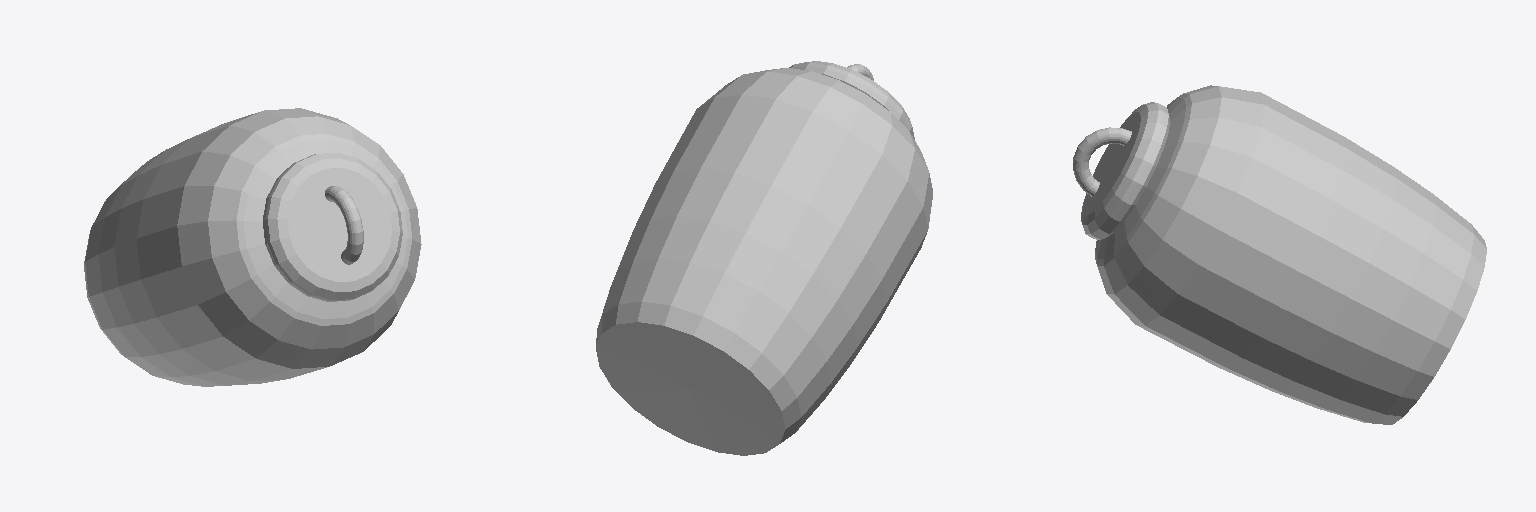
File: Urn_A_2.obj
3 views of the same model, side by side, from view 1: azimuth 30°, elevation 25°; view 2: azimuth 150°, elevation 25°; view 3: azimuth 270°, elevation 25° (orthographic).
Visible parts, largest first — view 1: Undertaker_Attack:Undertaker_4:Undertaker_4:Urn; view 2: Undertaker_Attack:Undertaker_4:Undertaker_4:Urn; view 3: Undertaker_Attack:Undertaker_4:Undertaker_4:Urn.
Part boxes in pixels (left/top/right/bottom): Undertaker_Attack:Undertaker_4:Undertaker_4:Urn: left=84, top=108, right=421, bottom=386; Undertaker_Attack:Undertaker_4:Undertaker_4:Urn: left=596, top=61, right=932, bottom=455; Undertaker_Attack:Undertaker_4:Undertaker_4:Urn: left=1073, top=85, right=1486, bottom=424.
Size of the model in its own units: 0.4718 by 0.6233 by 0.7371.